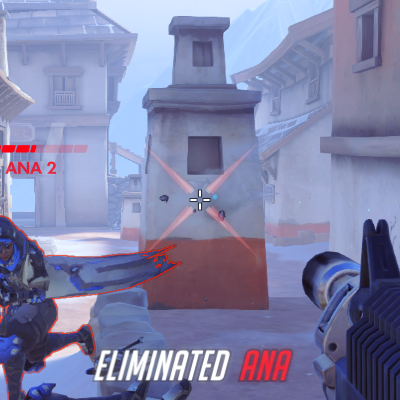hpbar: (1, 143, 89, 154)
